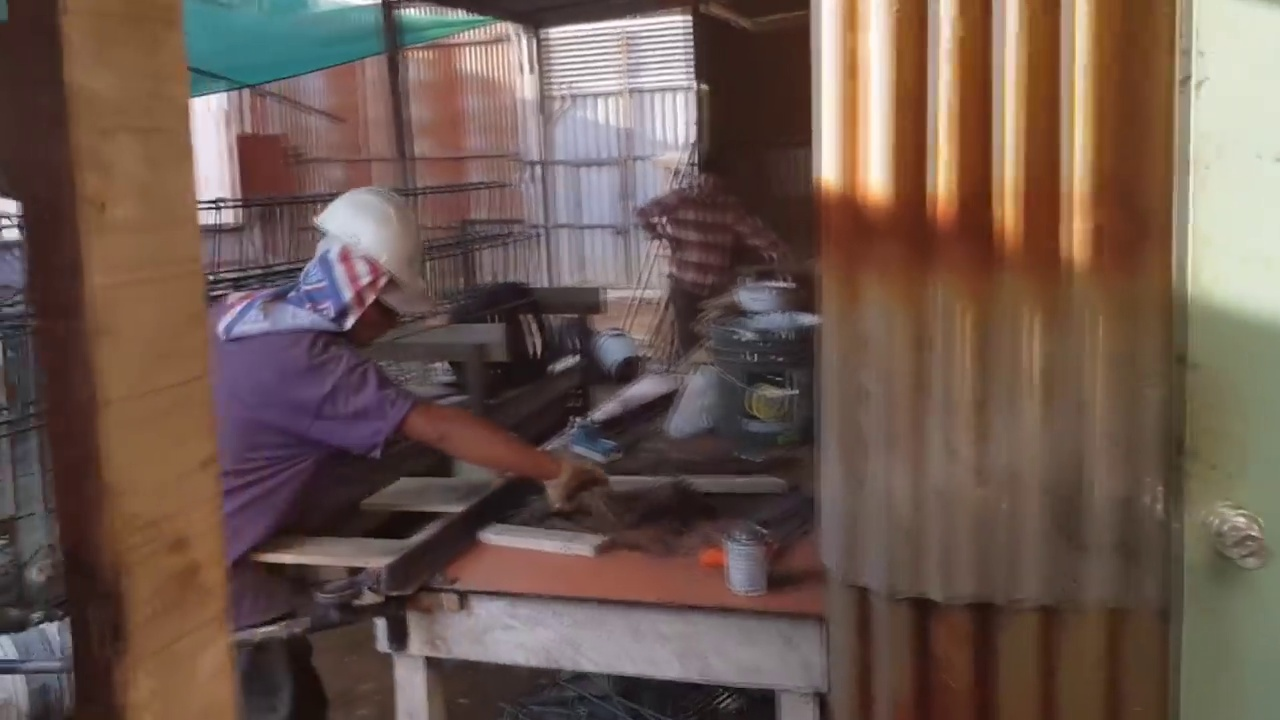helmet: (302, 184, 417, 291)
helmet-off: (694, 151, 748, 208)
helmet-on: (303, 184, 418, 351)
person: (232, 172, 758, 631), (642, 151, 771, 447)
